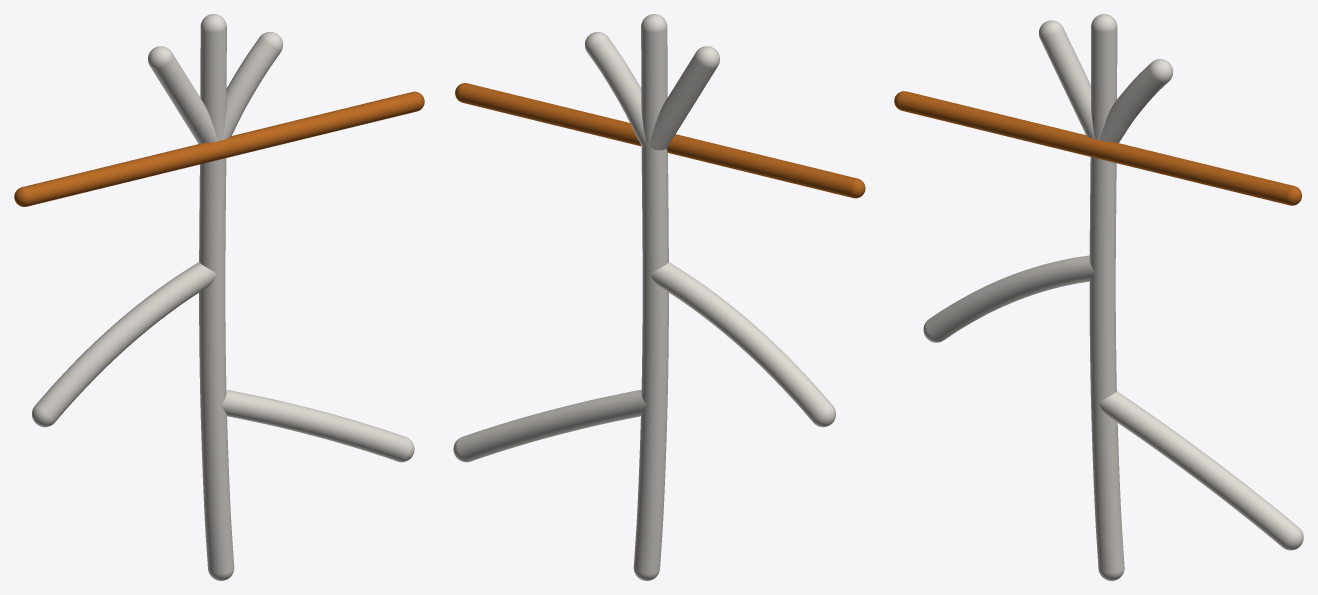
The model's file is rootland-mark-no-plinth.glb.
3 renders of one model, left to right at view 1: azimuth 30°, elevation 25°; view 2: azimuth 150°, elevation 25°; view 3: azimuth 330°, elevation 25°, orthographic.
Visible parts, largest first — view 1: stem, crossbar, branch_left, branch_right, prong_left, prong_right; view 2: stem, crossbar, branch_left, branch_right, prong_left, prong_right; view 3: stem, crossbar, branch_right, branch_left, prong_left, prong_right.
Part boxes in pixels (left/top/right/bottom): stem: left=199, top=14, right=234, bottom=580; crossbar: left=14, top=91, right=424, bottom=206; branch_left: left=32, top=262, right=216, bottom=427; branch_right: left=221, top=389, right=414, bottom=462; prong_left: left=148, top=46, right=217, bottom=143; prong_right: left=222, top=32, right=282, bottom=139; stem: left=633, top=14, right=668, bottom=580; crossbar: left=455, top=83, right=865, bottom=198; branch_left: left=651, top=262, right=835, bottom=427; branch_right: left=453, top=389, right=646, bottom=462; prong_left: left=650, top=46, right=719, bottom=150; prong_right: left=585, top=32, right=646, bottom=146; stem: left=1089, top=14, right=1124, bottom=580; crossbar: left=894, top=91, right=1301, bottom=205; branch_right: left=1099, top=391, right=1303, bottom=550; branch_left: left=923, top=255, right=1094, bottom=342; prong_left: left=1039, top=20, right=1094, bottom=138; prong_right: left=1099, top=59, right=1172, bottom=142.
Bounding box in the file's own units: 0.226 × 0.3 × 0.0168.
